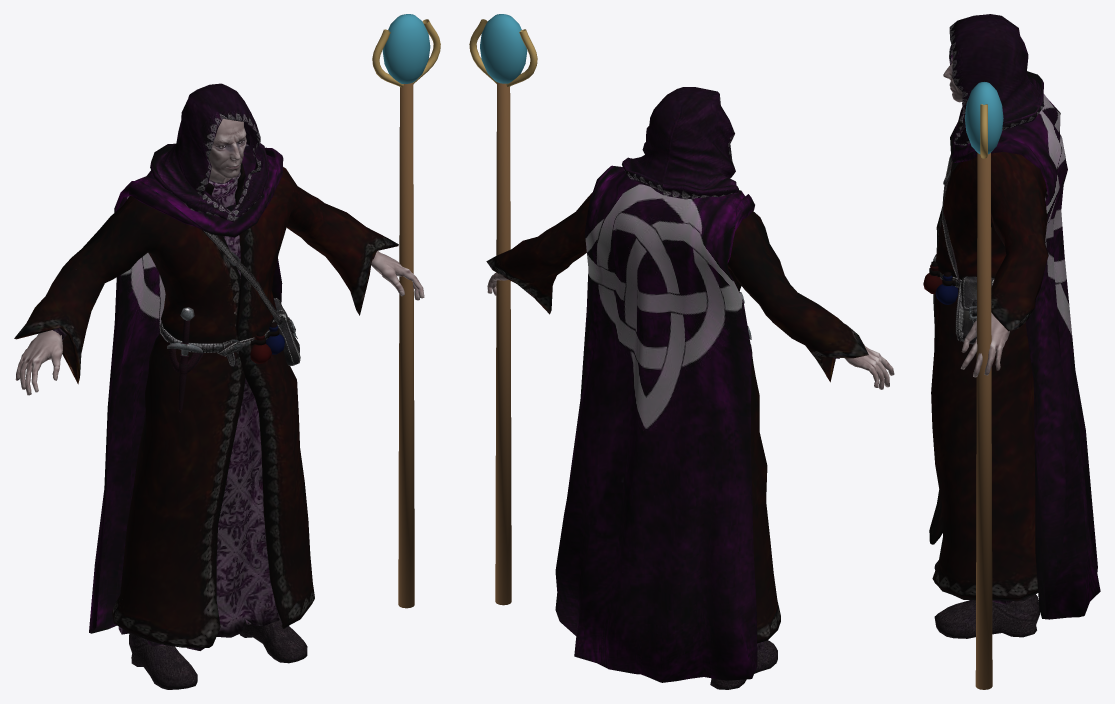
Rendered from actor-mage.glb.
3 renders of one model, left to right at view 1: azimuth 30°, elevation 25°; view 2: azimuth 150°, elevation 25°; view 3: azimuth 270°, elevation 25°, orthographic. The views are drawn at different scales.
Visible parts, largest first — view 1: mage · posed; view 2: mage · posed; view 3: mage · posed.
Boxes of the visible parts, x1,y1,x2,y2 form: mage · posed: [14, 14, 440, 689]; mage · posed: [469, 14, 894, 689]; mage · posed: [923, 14, 1100, 689].
Bounding box in the file's own units: 1.53 × 2.1 × 0.5488.
4 materials, 1 textured.
